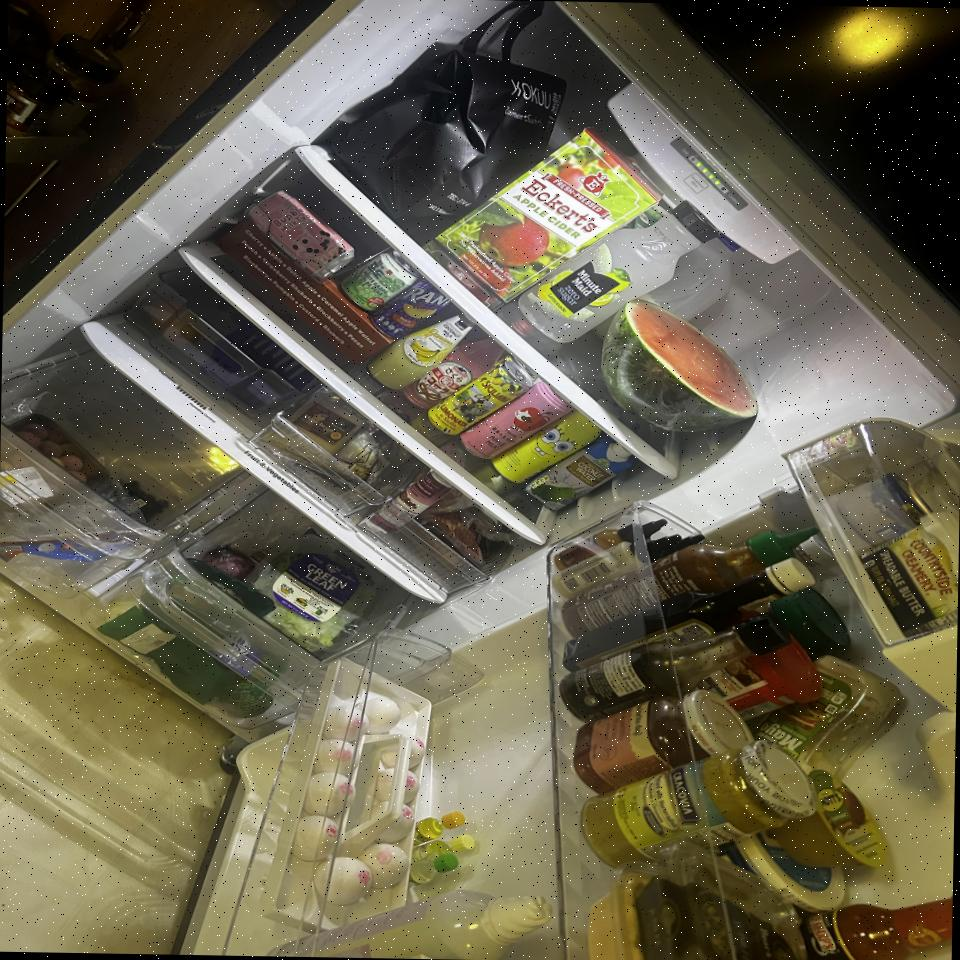Aguacate: (217, 682, 272, 718)
Huevos: (292, 695, 426, 908)
Mantequilla: (850, 510, 960, 644)
